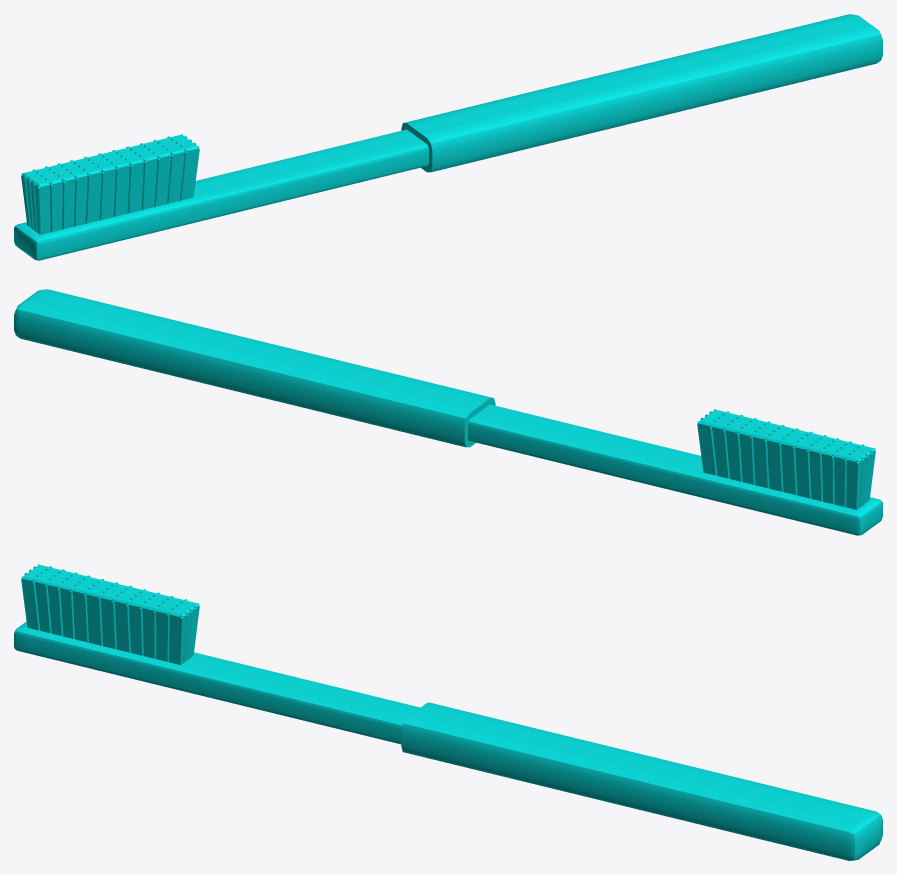
File: Tipo3_Mesh.fbx
The picture shows the model from 3 angles, top to bottom: view 1: azimuth 30°, elevation 25°; view 2: azimuth 150°, elevation 25°; view 3: azimuth 330°, elevation 25°; orthographic projection.
Visible parts, largest first — view 1: Escova_Tipo3_1; view 2: Escova_Tipo3_1; view 3: Escova_Tipo3_1.
Boxes of the visible parts, x1,y1,x2,y2 form: Escova_Tipo3_1: [14, 14, 882, 260]; Escova_Tipo3_1: [14, 289, 882, 535]; Escova_Tipo3_1: [14, 564, 882, 860].
Size of the model in its own units: 2.01 by 0.185 by 0.1284.
